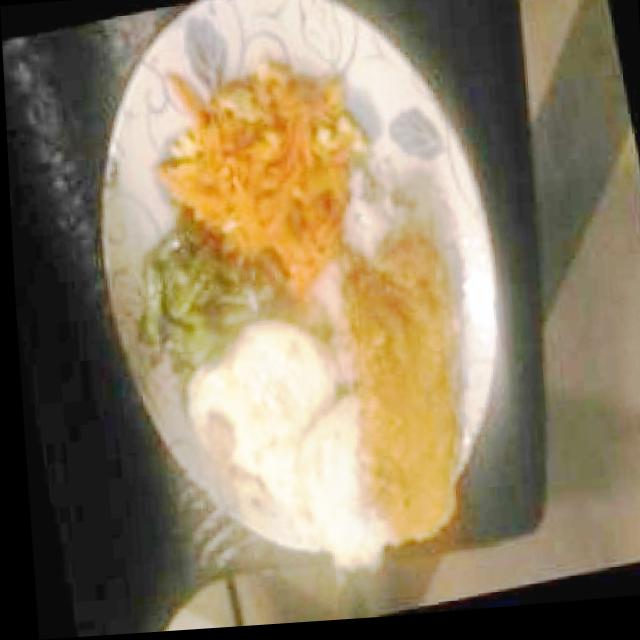Hashbrown: (342, 232, 466, 543)
carrot_eggs: (148, 55, 374, 254)
fried_eggs: (180, 316, 350, 526), (287, 393, 376, 577)
water_spinach: (123, 208, 254, 361)
